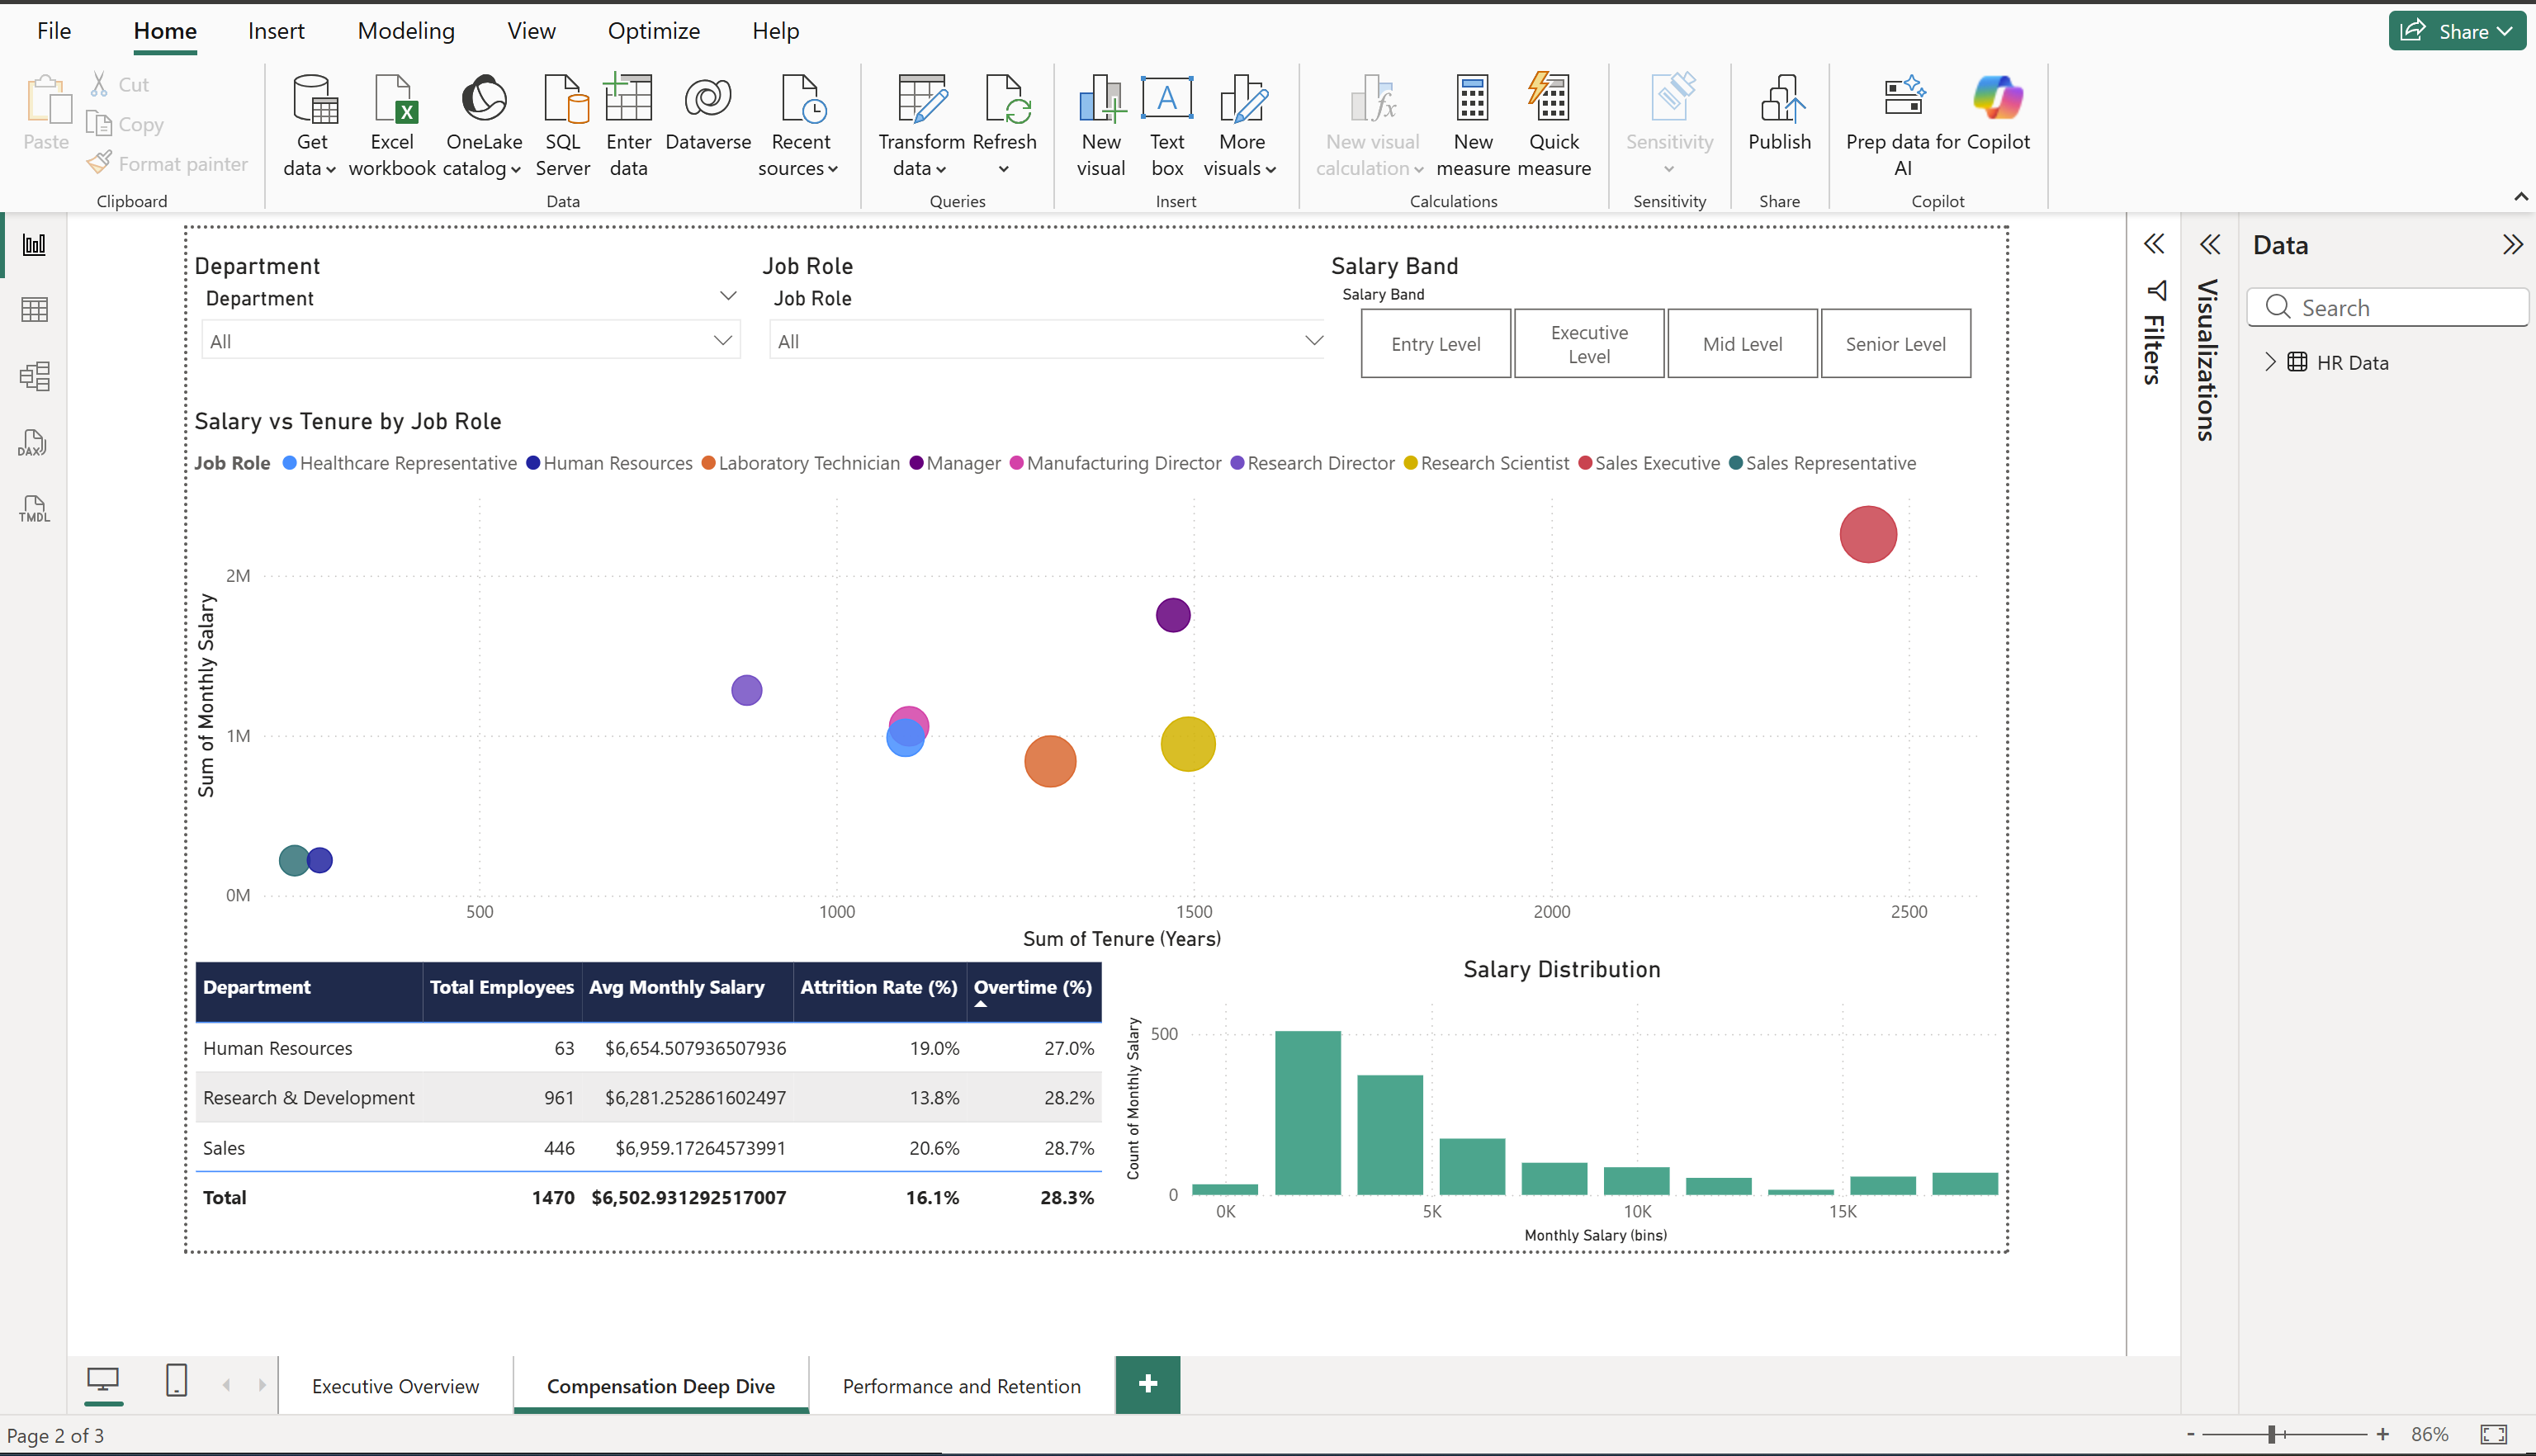

The page's visual inventory and layout, read from the dashboard file:
{"tool":"powerbi","page":{"name":"Compensation Deep Dive","canvas":[1280,720],"ordinal":1},"visuals":[{"type":"slicer","title":"Department","fields":{"Values":["HR Data.Department"]},"box":[0,16,400,96],"z":0},{"type":"slicer","title":"Job Role","fields":{"Values":["HR Data.Job Role"]},"box":[400,16,416,96],"z":1000},{"type":"slicer","title":"Salary Band","fields":{"Values":["HR Data.Salary Band"]},"box":[800,16,480,96],"z":2000},{"type":"scatterChart","title":"Salary vs Tenure by Job Role","fields":{"X":["Sum(HR Data.Tenure (Years))"],"Y":["Sum(HR Data.Monthly Salary)"],"Series":["HR Data.Job Role"],"Size":["Sum(HR Data.Performance Rating)"]},"box":[0,125.7,1280,387.5],"z":3000},{"type":"tableEx","fields":{"Values":["HR Data.Department","HR Data.Total Employees","HR Data.Avg Monthly Salary","HR Data.Attrition Rate (%)","HR Data.Overtime (%)"]},"box":[0,512,656,208],"z":4000},{"type":"clusteredColumnChart","title":"Salary Distribution","fields":{"Category":["HR Data.Monthly Salary (bins)"],"Y":["CountNonNull(HR Data.Monthly Salary)"]},"box":[656,512,624,208],"z":5000}]}

Visuals, with their boxes on the page's 1280x720 design canvas (x1, y1, x2, y2). These are canvas units, not pixel positions in the 2536x1456 screenshot, which may show the page scaled, cropped or inside an application window:
"Department" slicer: region(0, 16, 400, 112)
"Job Role" slicer: region(400, 16, 816, 112)
"Salary Band" slicer: region(800, 16, 1280, 112)
"Salary vs Tenure by Job Role" scatterChart: region(0, 126, 1280, 513)
tableEx - HR Data.Department x HR Data.Total Employees: region(0, 512, 656, 720)
"Salary Distribution" clusteredColumnChart: region(656, 512, 1280, 720)
